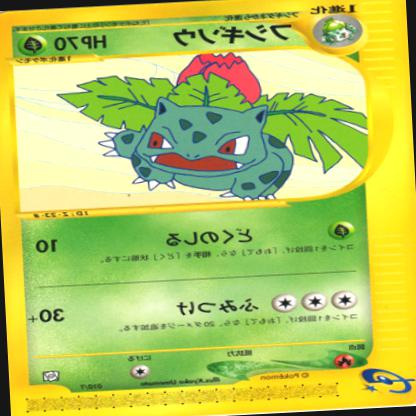Ivysaur: (54, 51, 307, 211)
